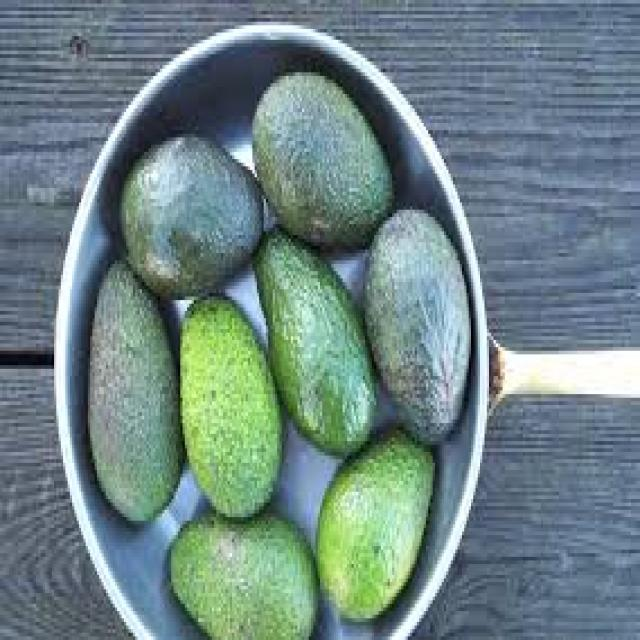avocado: (107, 101, 280, 305), (246, 21, 406, 239), (249, 217, 379, 481), (76, 245, 183, 552), (359, 194, 481, 446), (174, 297, 300, 534), (319, 416, 451, 616), (154, 497, 334, 640)
